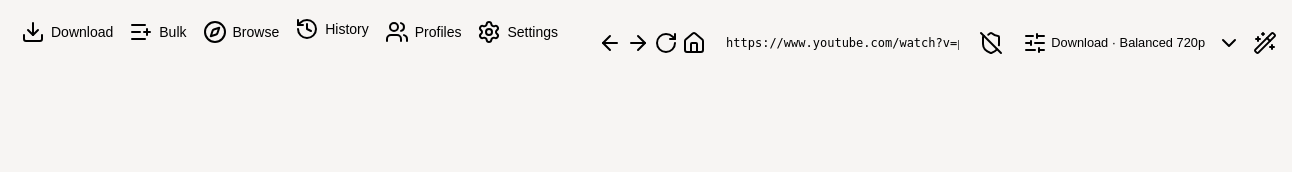
Test: Explore address bar › refuses javascript:alert(1) without sending it, and offers no download
Replace the text in the field with test id "explore-address" with "javascript:alert(1)" at (843, 43), box 716,29 -> 969,57
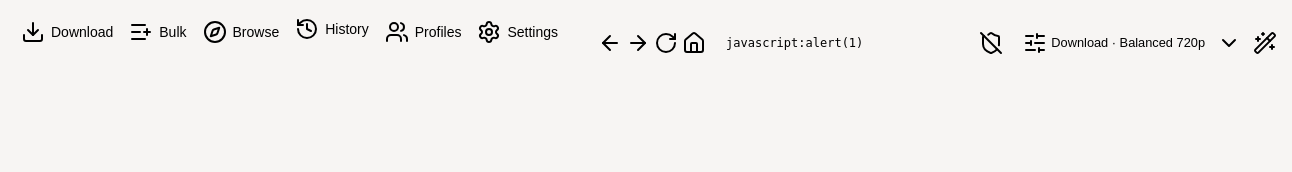
Press Enter in the field with test id "explore-address", box 716,29 -> 969,57
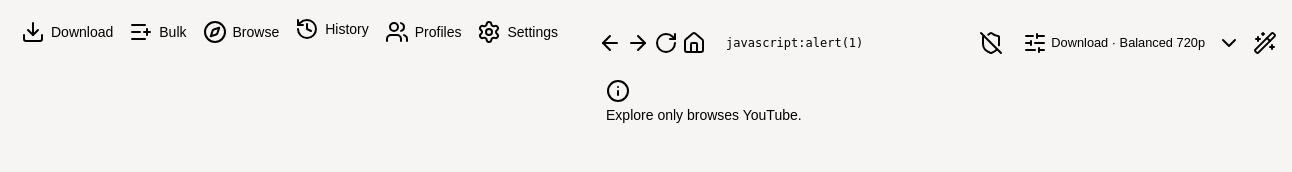
Now the element with test id "explore-address-hint" reads "Explore only browses YouTube.", box 606,107 -> 802,123
